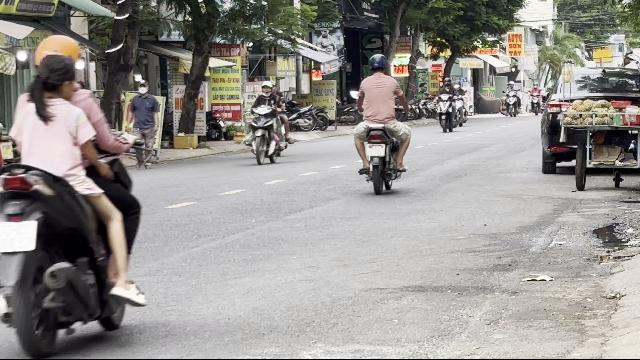helmet: (29, 34, 83, 74), (368, 52, 390, 74), (260, 80, 272, 96)
licenseplate: (1, 222, 36, 250), (366, 144, 384, 156)
motorcyclist: (0, 34, 146, 354), (351, 52, 412, 194), (244, 80, 292, 165)
nohelmet: (29, 56, 79, 98)
